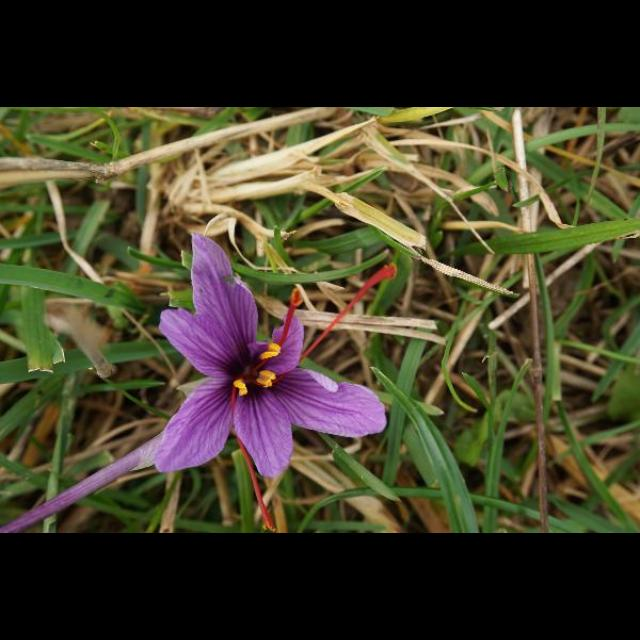flower: (153, 235, 400, 533)
